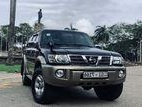car: (20, 29, 126, 104)
